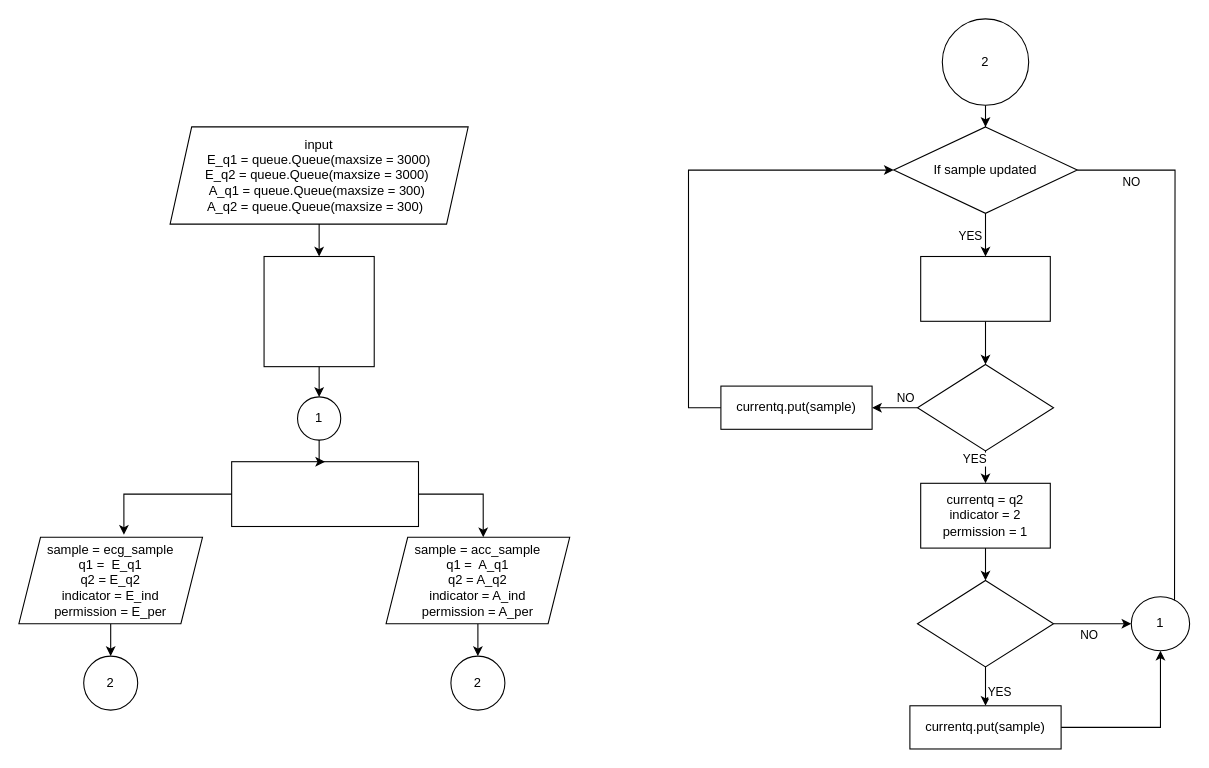
Some shapes in this 1209 by 768 pixel diagram are drawn without their labels. The shapes that lost their labels are listed below. From the top down, each one's centre as x and y in pixels, then its label:
(985,288): currentq = q1 indicator = 1 permission = 0
(318,311): data received from main.c (TCP) unpacked data=ECG+ACC
(985,407): if currentq.full()
(324,493): Update sample variables ecg_sample = [data.ECG] acc_sample = [data.ACC]
(985,623): if currentq.empty()
